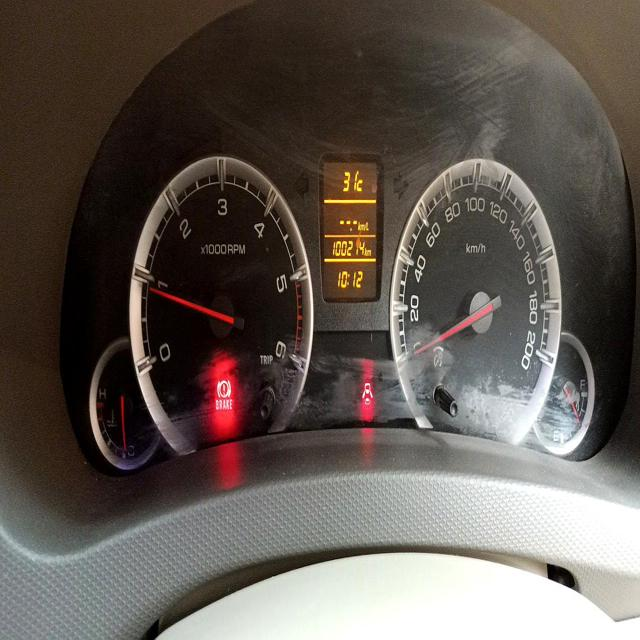odometer: (331, 238, 365, 257)
